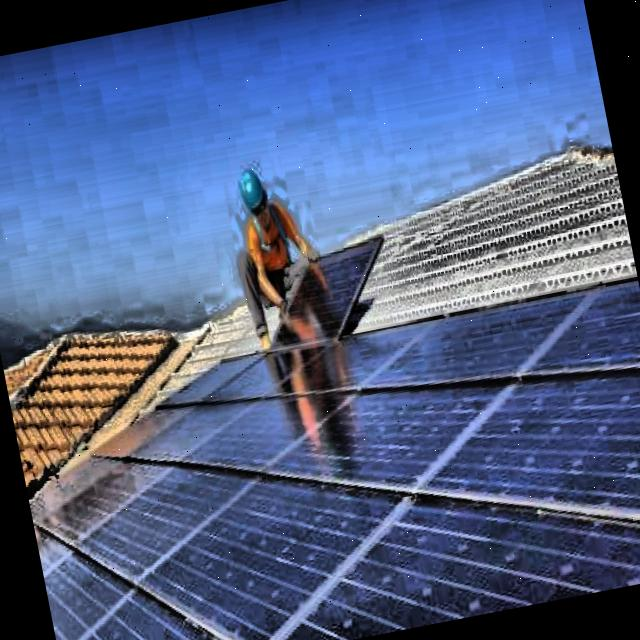helmet: (230, 156, 278, 230)
